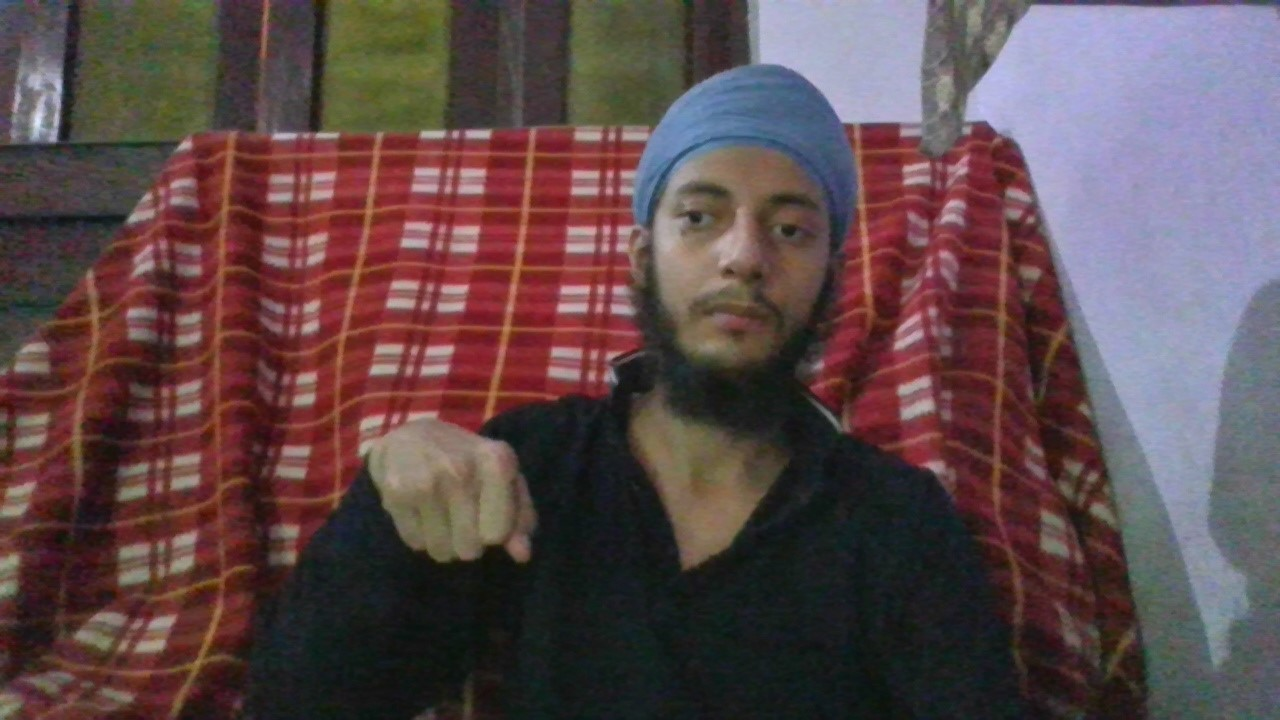Yes: (367, 421, 538, 568)
